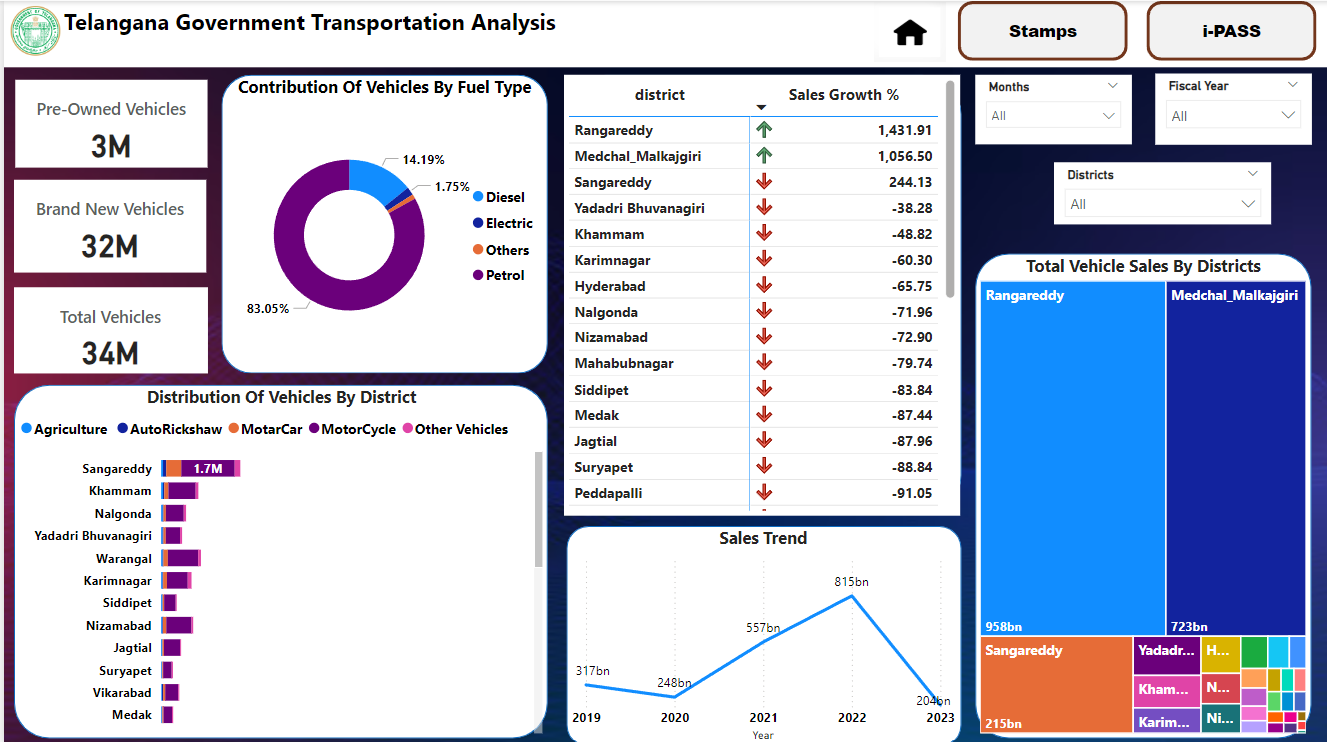

The dashboard page shown, as its layout file describes it:
{"tool":"powerbi","page":{"name":"Transportation","canvas":[1280,720],"ordinal":2},"visuals":[{"type":"shape","box":[209.9,71.2,314.9,288.3],"z":0},{"type":"textbox","box":[0,0,1280,63.9],"z":1000},{"type":"cardVisual","fields":{"Data":["Telangana District.Brand New Vehicles"]},"box":[9.7,172.5,185.8,89.3],"z":2000},{"type":"cardVisual","fields":{"Data":["Telangana District.Pre-Owned Vehicles"]},"box":[10.9,76,185.8,84.5],"z":3000},{"type":"cardVisual","fields":{"Data":["Telangana District.Total Vehicles"]},"box":[9.7,276.3,187,83.2],"z":4000},{"type":"donutChart","title":"Contribution Of Vehicles By Fuel Type","fields":{"Y":["Sum(Telangana District.fuel_type_diesel)","Sum(Telangana District.fuel_type_electric)","Sum(Telangana District.fuel_type_others)","Sum(Telangana District.fuel_type_petrol)"]},"box":[209.9,71.2,314.9,288.3],"z":5000},{"type":"shape","box":[9.7,370.4,515.2,341.4],"z":6000},{"type":"barChart","title":"Distribution Of Vehicles By District","fields":{"Category":["Telangana District.district"],"Y":["Sum(Telangana District.vehicleClass_Agriculture)","Sum(Telangana District.vehicleClass_AutoRickshaw)","Sum(Telangana District.vehicleClass_MotorCar)","Sum(Telangana District.vehicleClass_MotorCycle)","Sum(Telangana District.vehicleClass_others)"]},"box":[10.9,370.4,513.9,341.4],"z":7000},{"type":"shape","box":[542.9,71.2,381.2,424.7],"z":8000},{"type":"shape","box":[542.9,506.7,381.2,213.5],"z":9000},{"type":"slicer","fields":{"Values":["Telangana District.fiscal_year"]},"box":[1111.1,70,150.8,68.8],"z":10000},{"type":"slicer","fields":{"Values":["Telangana District.Month"]},"box":[937.4,71.2,150.8,67.6],"z":11000},{"type":"slicer","fields":{"Values":["Telangana District.district"]},"box":[1013.4,155.6,209.9,60.3],"z":12000},{"type":"pivotTable","fields":{"Rows":["Telangana District.district"],"Values":["Telangana District.Sales Growth %"]},"box":[541,70.7,382.3,425.6],"z":13000},{"type":"lineChart","title":"Sales Trend","fields":{"Category":["Telangana District.date.Variation.Date Hierarchy.Year"],"Y":["Telangana District.Total Sales"]},"box":[542.9,506.7,380,213.5],"z":14000},{"type":"shape","box":[937.4,243.7,324.5,468.1],"z":15000},{"type":"treemap","title":"Total Vehicle Sales By Districts","fields":{"Group":["Telangana District.district"],"Values":["Telangana District.Total Sales"]},"box":[937.4,243.7,324.5,468.1],"z":16000},{"type":"image","box":[839.7,1.3,69.2,57.7],"z":17000},{"type":"actionButton","box":[920.5,0,164.1,57.7],"z":18000},{"type":"actionButton","box":[1102.6,0,164.1,57.7],"z":19000},{"type":"image","box":[0,0,61.5,57.9],"z":20000}]}

Visuals, with their boxes in screenshot pixels (x1, y1, x2, y2), scaled from the page's 1280x720 canvas onto the 1327x742 screenshot:
shape: box(218, 73, 544, 370)
textbox: box(0, 0, 1326, 66)
cardVisual - Telangana District.Brand New Vehicles: box(10, 178, 203, 270)
cardVisual - Telangana District.Pre-Owned Vehicles: box(11, 78, 204, 165)
cardVisual - Telangana District.Total Vehicles: box(10, 285, 204, 370)
"Contribution Of Vehicles By Fuel Type" donutChart: box(218, 73, 544, 370)
shape: box(10, 382, 544, 734)
"Distribution Of Vehicles By District" barChart: box(11, 382, 544, 734)
shape: box(563, 73, 958, 511)
shape: box(563, 522, 958, 741)
slicer - Telangana District.fiscal_year: box(1152, 72, 1308, 143)
slicer - Telangana District.Month: box(972, 73, 1128, 143)
slicer - Telangana District.district: box(1051, 160, 1268, 222)
pivotTable - Telangana District.district x Telangana District.Sales Growth %: box(561, 73, 957, 511)
"Sales Trend" lineChart: box(563, 522, 957, 741)
shape: box(972, 251, 1308, 734)
"Total Vehicle Sales By Districts" treemap: box(972, 251, 1308, 734)
image: box(871, 1, 942, 61)
actionButton: box(954, 0, 1124, 59)
actionButton: box(1143, 0, 1313, 59)
image: box(0, 0, 64, 60)
